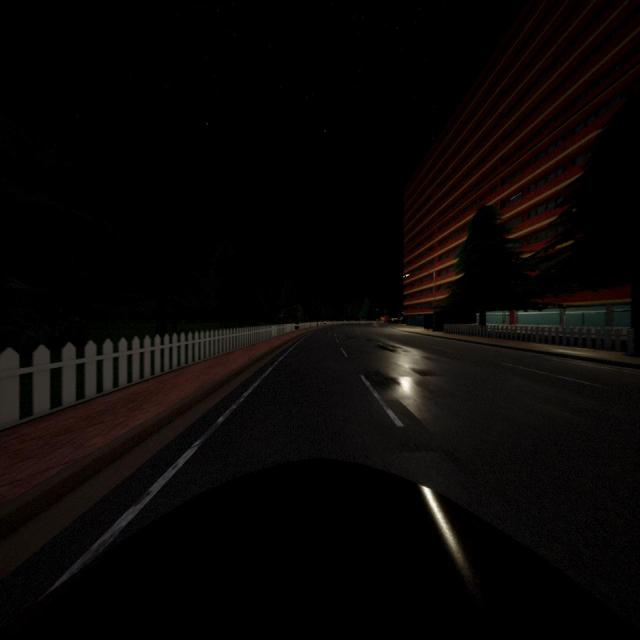Vehicle: (0, 459, 640, 640), (379, 316, 388, 324), (389, 318, 399, 324)
